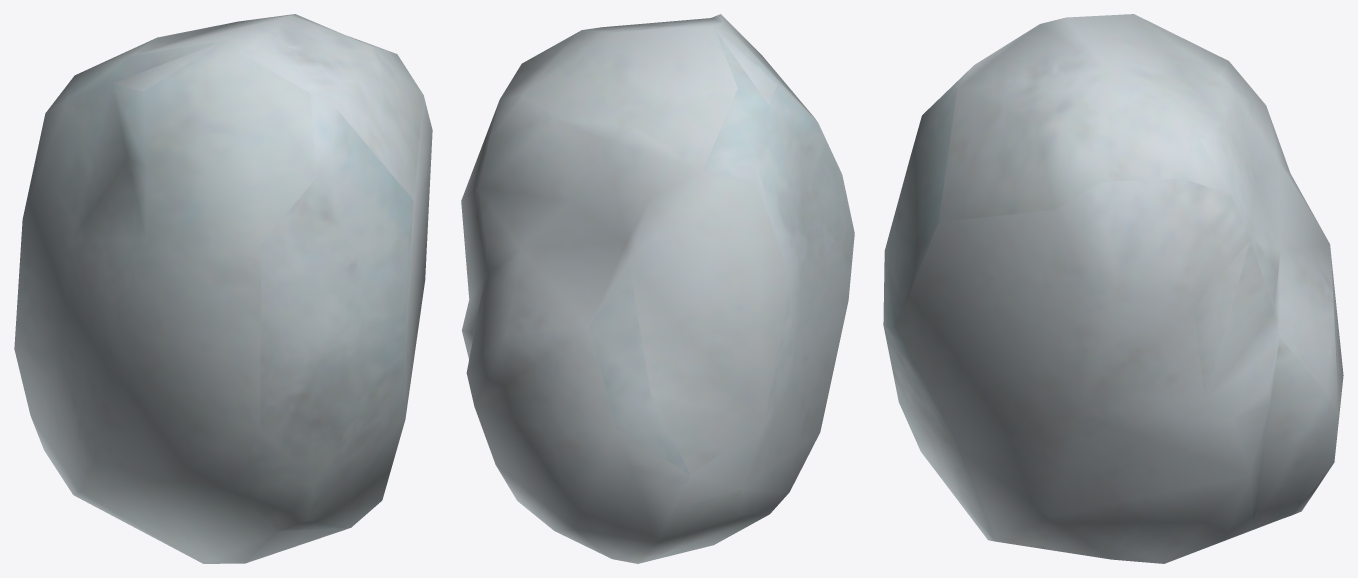
File: P_BoulderClassic1.obj
The picture shows the model from 3 angles, left to right: view 1: azimuth 30°, elevation 25°; view 2: azimuth 150°, elevation 25°; view 3: azimuth 270°, elevation 25°; orthographic projection. The views are drawn at different scales.
Size of the model in its own units: 6.65 by 9.17 by 7.35.
